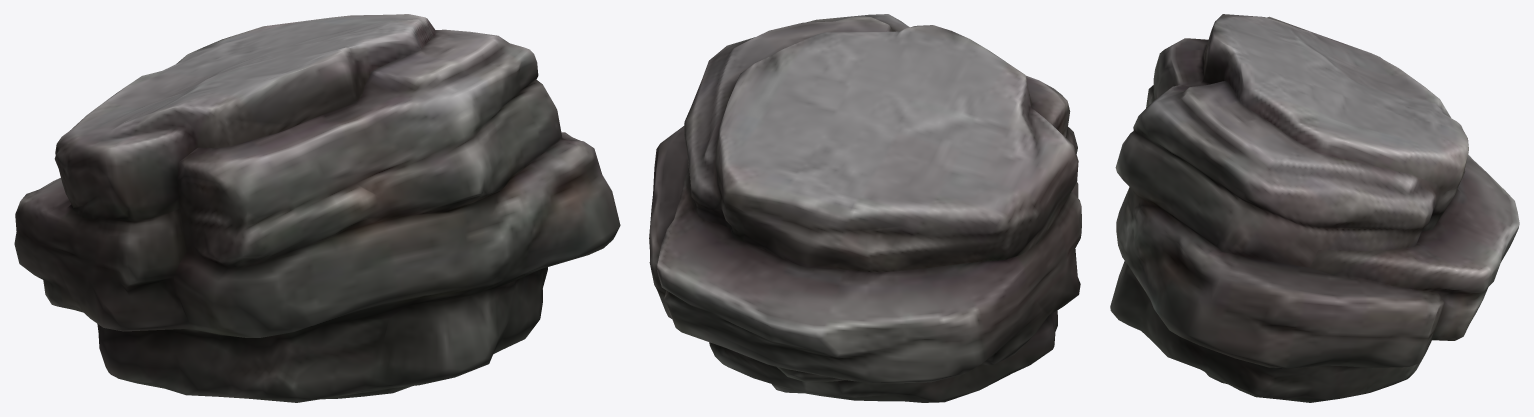
The model's file is sp-fels-3.glb.
3 views of the same model, side by side, from view 1: azimuth 30°, elevation 25°; view 2: azimuth 150°, elevation 25°; view 3: azimuth 270°, elevation 25° (orthographic). The views are drawn at different scales.
Parts seen in each view (by area): view 1: sp-fels-3; view 2: sp-fels-3; view 3: sp-fels-3.
Part boxes in pixels (x1,y1,x2,y2): sp-fels-3: (14, 14, 620, 402); sp-fels-3: (649, 14, 1081, 402); sp-fels-3: (1110, 14, 1519, 402).
Size of the model in its own units: 4.13 by 3.05 by 3.59.
1 material, 1 textured.
